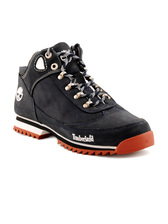shoes: (4, 40, 159, 155)
